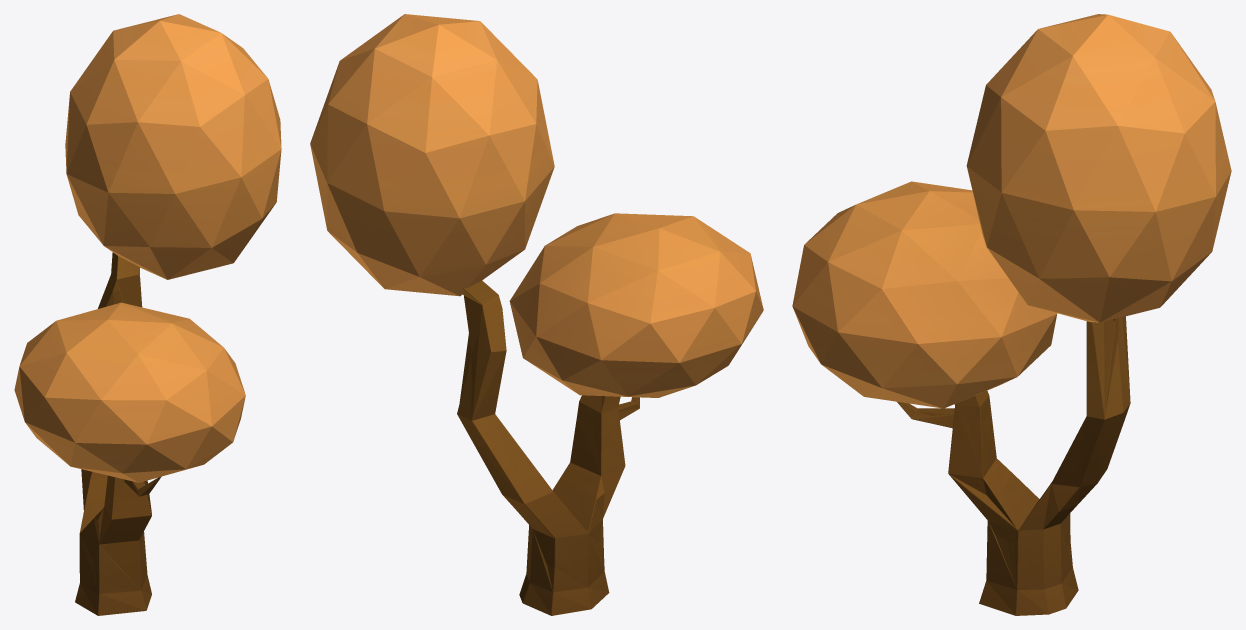
The model's file is tree_twin.glb.
The picture shows the model from 3 angles, left to right: view 1: azimuth 30°, elevation 25°; view 2: azimuth 150°, elevation 25°; view 3: azimuth 270°, elevation 25°; orthographic projection. The views are drawn at different scales.
Visible parts, largest first — view 1: Tree_9_AA; view 2: Tree_9_AA; view 3: Tree_9_AA.
Boxes of the visible parts, x1,y1,x2,y2 form: Tree_9_AA: (14,14,281,615); Tree_9_AA: (310,14,763,615); Tree_9_AA: (792,14,1231,615).
Bounding box in the file's own units: 2.11 × 3.43 × 2.17.
1 material, 1 textured.
